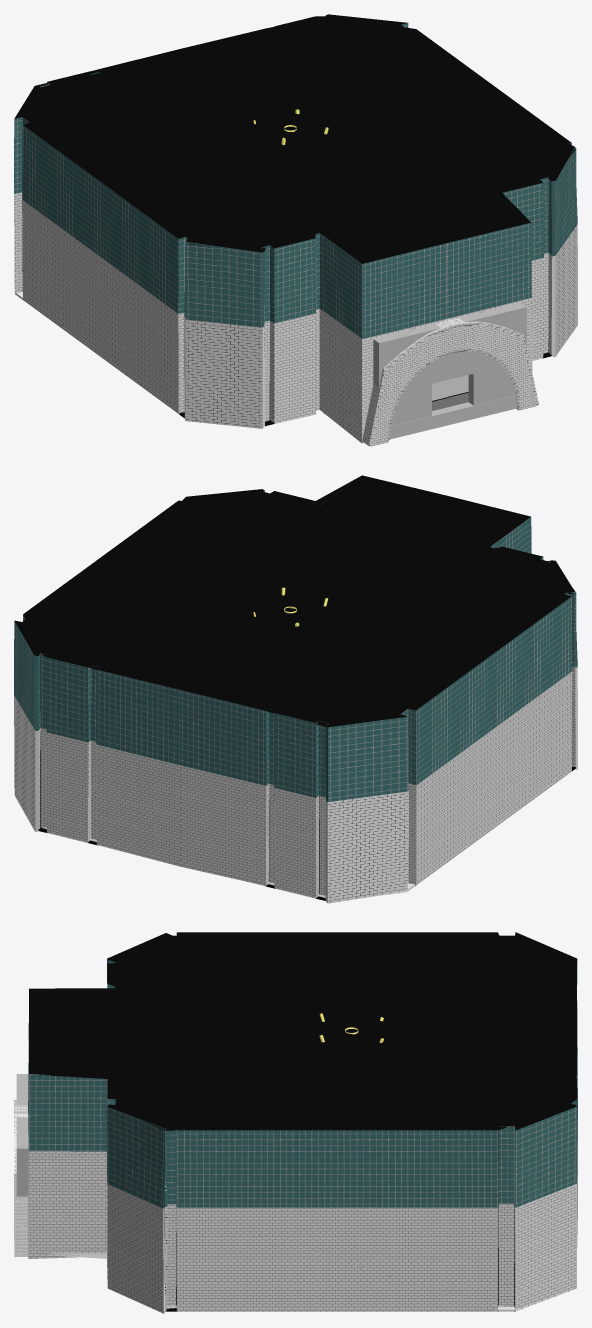
File: lobby Squid Game.fbx
3 views of the same model, one above another, from view 1: azimuth 30°, elevation 25°; view 2: azimuth 150°, elevation 25°; view 3: azimuth 270°, elevation 25° (orthographic). The views are drawn at different scales.
Visible parts, largest first — view 1: Paredes, puerta D; view 2: Paredes; view 3: Paredes.
Part boxes in pixels (x1,y1,x2,y2): Paredes: [14, 14, 577, 446]; puerta D: [447, 375, 468, 406]; Paredes: [14, 475, 577, 903]; Paredes: [14, 932, 577, 1313].
Bounding box in the file's own units: 7059 × 3176 × 8462.
